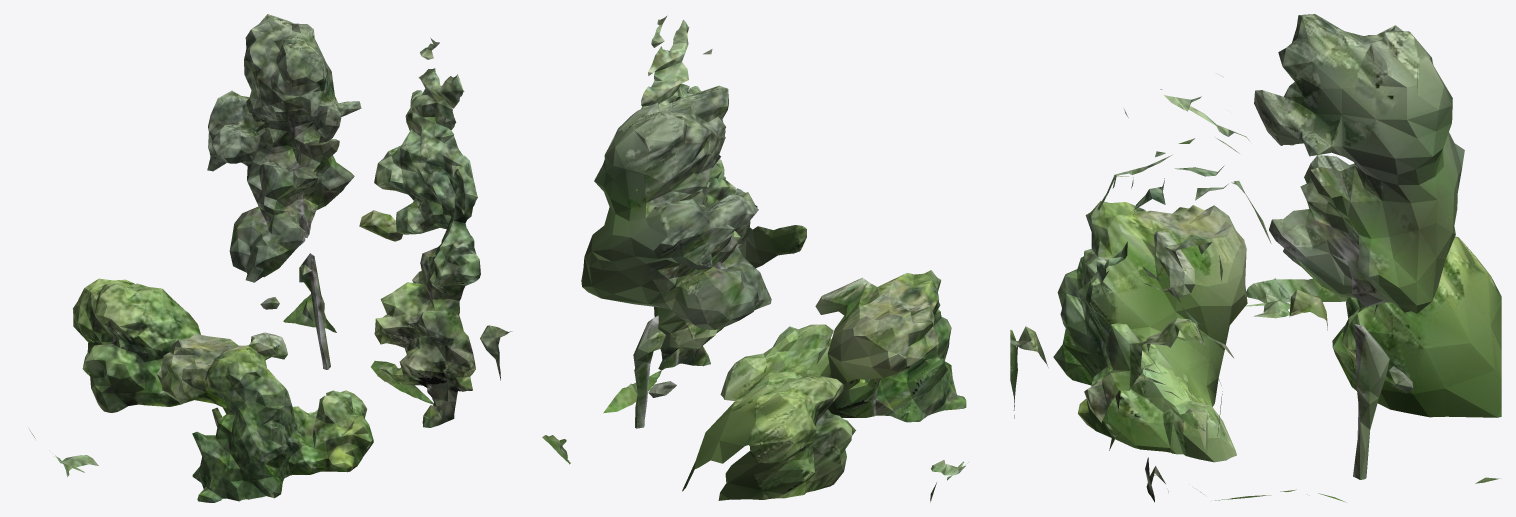
The picture shows the model from 3 angles, left to right: view 1: azimuth 30°, elevation 25°; view 2: azimuth 150°, elevation 25°; view 3: azimuth 270°, elevation 25°; orthographic projection. The views are drawn at different scales.
Size of the model in its own units: 26.11 by 26.11 by 26.11.
5 materials, 5 textured.
